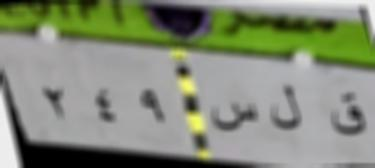2: (40, 80, 73, 130)
4: (90, 85, 118, 129)
9: (138, 83, 167, 130)
laam: (268, 79, 304, 138)
qaaf: (328, 88, 368, 139)
seen: (210, 94, 260, 136)
